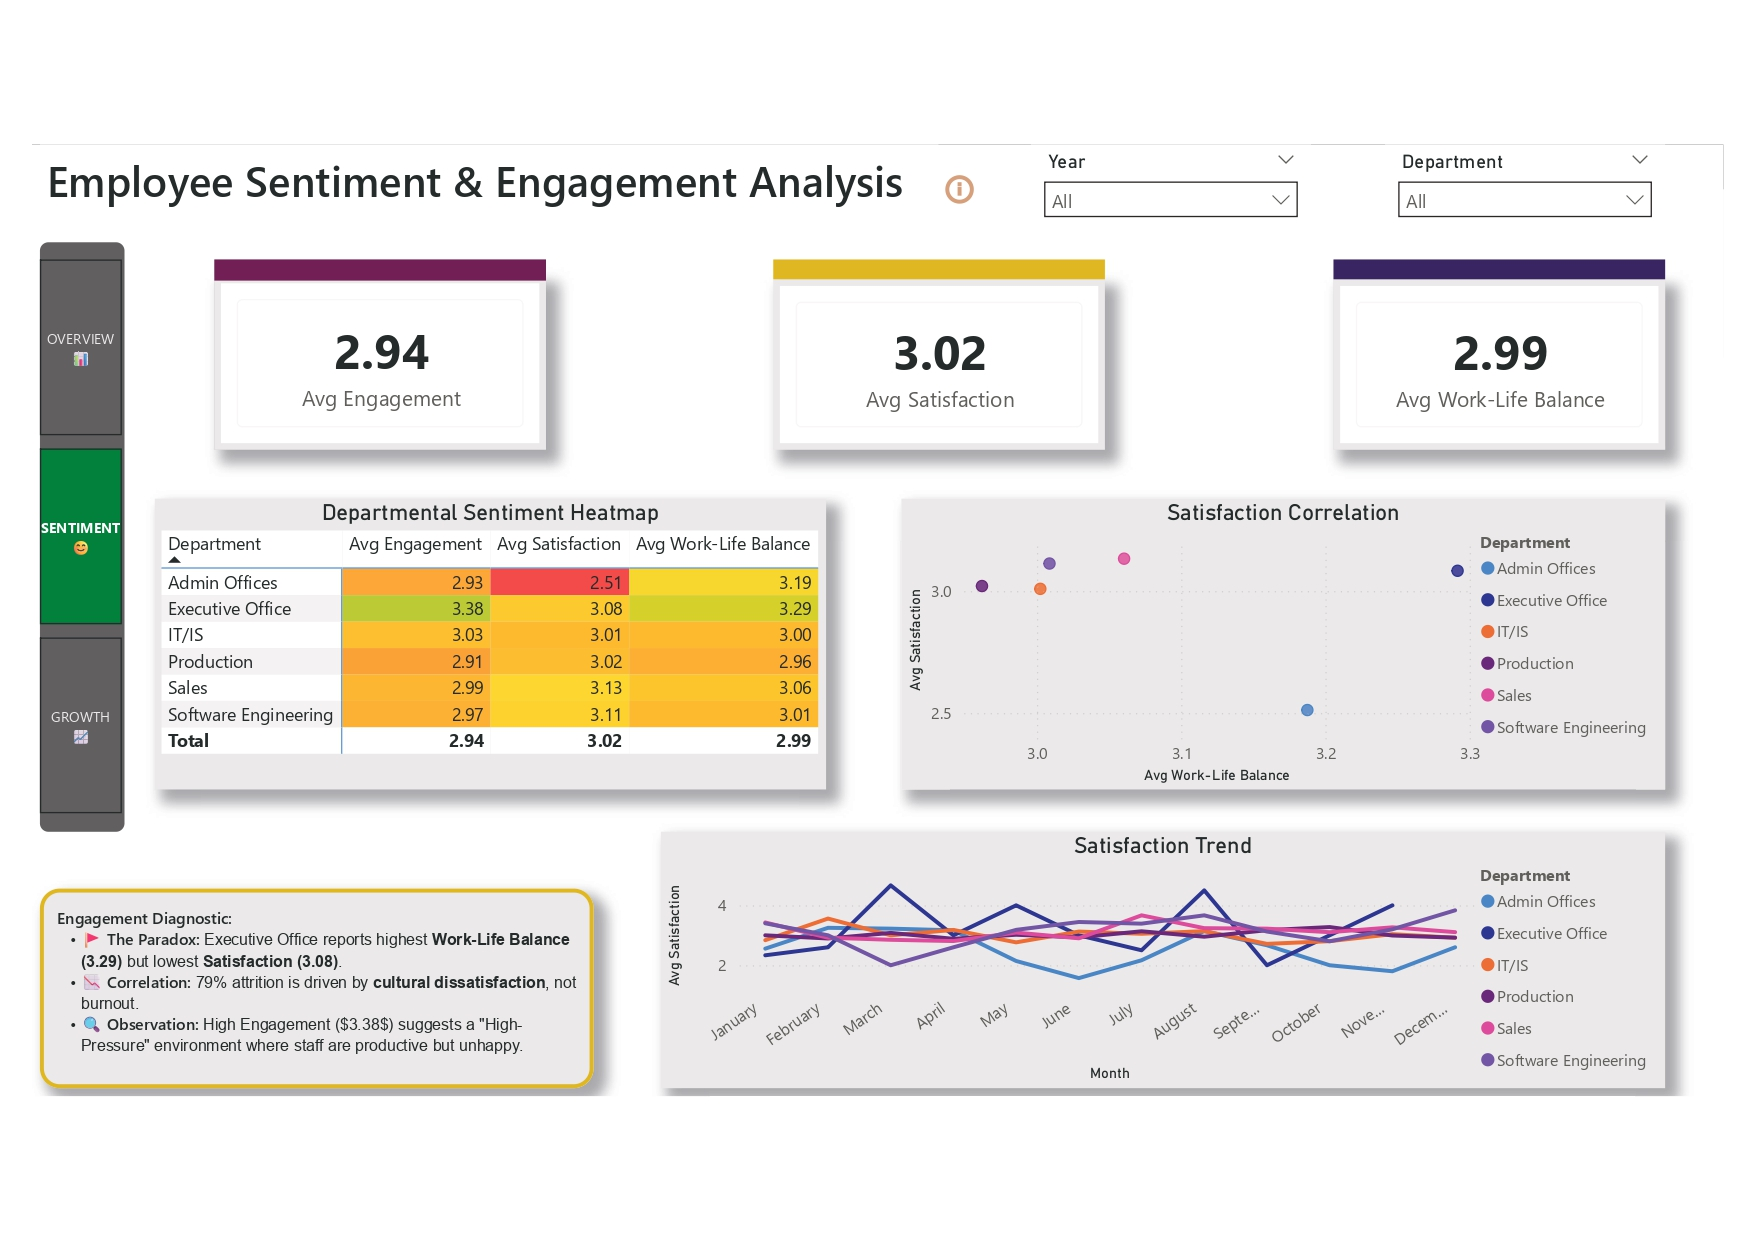

The dashboard page shown, as its layout file describes it:
{"tool":"powerbi","page":{"name":"SENTIMENT 😊","canvas":[1280,720],"ordinal":1},"visuals":[{"type":"textbox","box":[5.7,0,680.3,60.5],"z":0},{"type":"cardVisual","fields":{"Data":["_Measures (2).Avg Engagement"]},"box":[138,99.5,250.8,131],"z":0,"group":"g1"},{"type":"group","id":"g1","title":"Group 1","box":[138,86.9,251.3,143.6],"z":1000},{"type":"cardVisual","fields":{"Data":["_Measures (2).Avg Satisfaction"]},"box":[561.3,102.3,250.8,128.2],"z":1000,"group":"g2"},{"type":"group","id":"g2","title":"Group 2","box":[561.3,86.9,251.3,143.6],"z":2000},{"type":"cardVisual","fields":{"Data":["_Measures (2).Avg Work-Life Balance"]},"box":[984.6,102.3,250.8,128.2],"z":2000,"group":"g3"},{"type":"group","id":"g3","title":"Group 3","box":[984.6,86.9,251.3,143.6],"z":3000},{"type":"shape","box":[5.7,73.7,64,446],"z":4000},{"type":"pageNavigator","box":[5.7,86.9,62,419.5],"z":5000},{"type":"textbox","box":[5.7,563.2,419.5,151.2],"z":6000},{"type":"pivotTable","title":"Departmental Sentiment Heatmap","fields":{"Rows":["employee_data.Department Type"],"Values":["_Measures (2).Avg Engagement","_Measures (2).Avg Satisfaction","_Measures (2).Avg Work-Life Balance"]},"box":[92.6,268.3,508.4,219.2],"z":7000},{"type":"shape","box":[138,86.9,250.8,15.8],"z":8000,"group":"g1"},{"type":"scatterChart","title":"Satisfaction Correlation","fields":{"X":["_Measures (2).Avg Work-Life Balance"],"Y":["_Measures (2).Avg Satisfaction"],"Series":["employee_data.Department Type"]},"box":[657.6,268.3,578.3,219.2],"z":8000},{"type":"shape","box":[561.3,86.9,250.8,15.4],"z":8001,"group":"g2"},{"type":"shape","box":[984.6,86.9,250.8,15.4],"z":8002,"group":"g3"},{"type":"lineChart","title":"Satisfaction Trend","fields":{"Y":["_Measures (2).Avg Satisfaction"],"Series":["employee_data.Department Type"],"Category":["employee_engagement_survey_data.Survey Date.Variation.Date Hierarchy.Month"]},"box":[476.2,519.7,759.7,194.6],"z":9000},{"type":"slicer","fields":{"Values":["employee_data.Department Type"]},"box":[1024.3,0,211.7,75.6],"z":10000},{"type":"slicer","fields":{"Values":["Dim_Calendar.Year"]},"box":[756.4,0,211.7,75.6],"z":11000},{"type":"actionButton","box":[686.9,17.4,30,33.2],"z":11001}]}

Visuals, with their boxes on the page's 1280x720 design canvas (x1, y1, x2, y2). These are canvas units, not pixel positions in the 1755x1241 screenshot, which may show the page scaled, cropped or inside an application window:
textbox: <region>6, 0, 686, 60</region>
cardVisual - _Measures (2).Avg Engagement: <region>138, 100, 389, 230</region>
"Group 1" group: <region>138, 87, 389, 230</region>
cardVisual - _Measures (2).Avg Satisfaction: <region>561, 102, 812, 230</region>
"Group 2" group: <region>561, 87, 813, 230</region>
cardVisual - _Measures (2).Avg Work-Life Balance: <region>985, 102, 1235, 230</region>
"Group 3" group: <region>985, 87, 1236, 230</region>
shape: <region>6, 74, 70, 520</region>
pageNavigator: <region>6, 87, 68, 506</region>
textbox: <region>6, 563, 425, 714</region>
"Departmental Sentiment Heatmap" pivotTable: <region>93, 268, 601, 488</region>
shape: <region>138, 87, 389, 103</region>
"Satisfaction Correlation" scatterChart: <region>658, 268, 1236, 488</region>
shape: <region>561, 87, 812, 102</region>
shape: <region>985, 87, 1235, 102</region>
"Satisfaction Trend" lineChart: <region>476, 520, 1236, 714</region>
slicer - employee_data.Department Type: <region>1024, 0, 1236, 76</region>
slicer - Dim_Calendar.Year: <region>756, 0, 968, 76</region>
actionButton: <region>687, 17, 717, 51</region>
